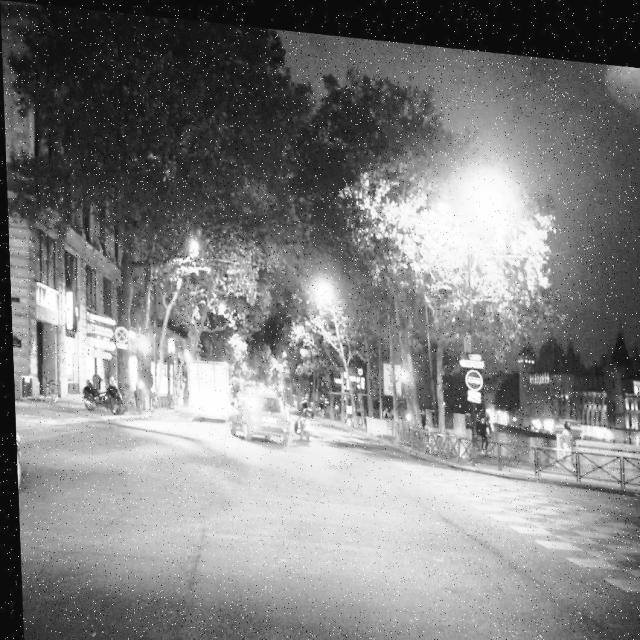Truck: (187, 355, 231, 418)
